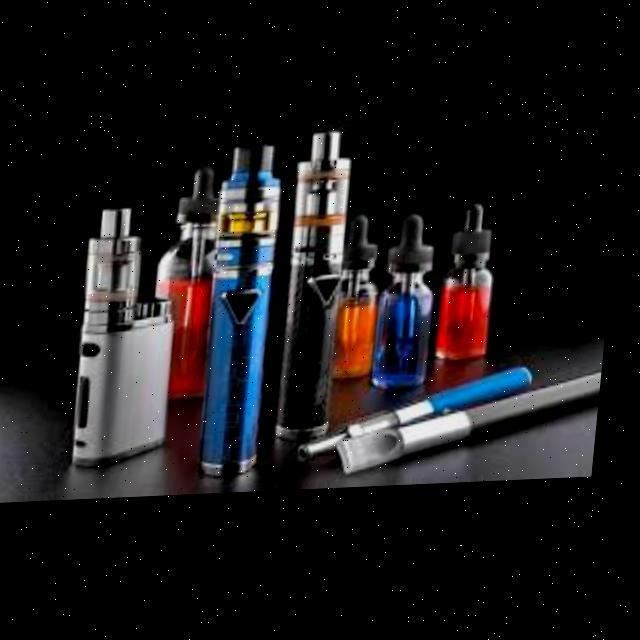vape: (74, 206, 192, 473), (204, 146, 291, 483), (347, 378, 610, 479), (280, 136, 358, 450), (307, 371, 540, 466)
